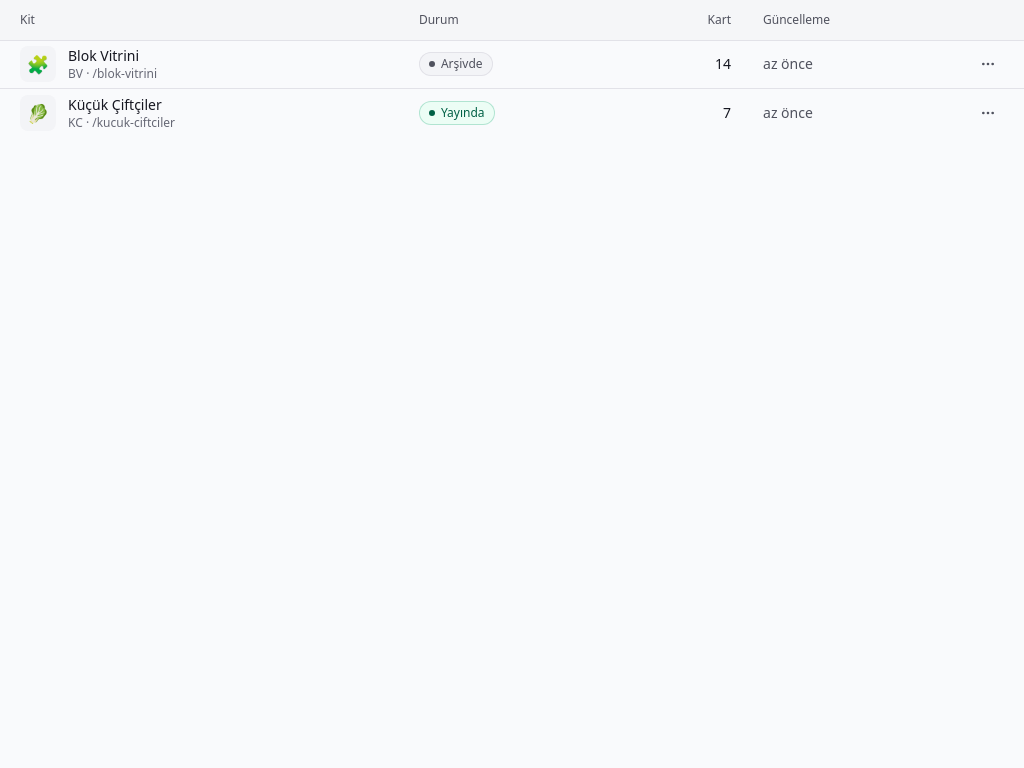
Test: KitsTable › brings an archived kit back
The width and height of the screenshot is (1024, 768).
Click the button named "Blok Vitrini için işlemler": [988, 64] box [972, 48, 1004, 80]
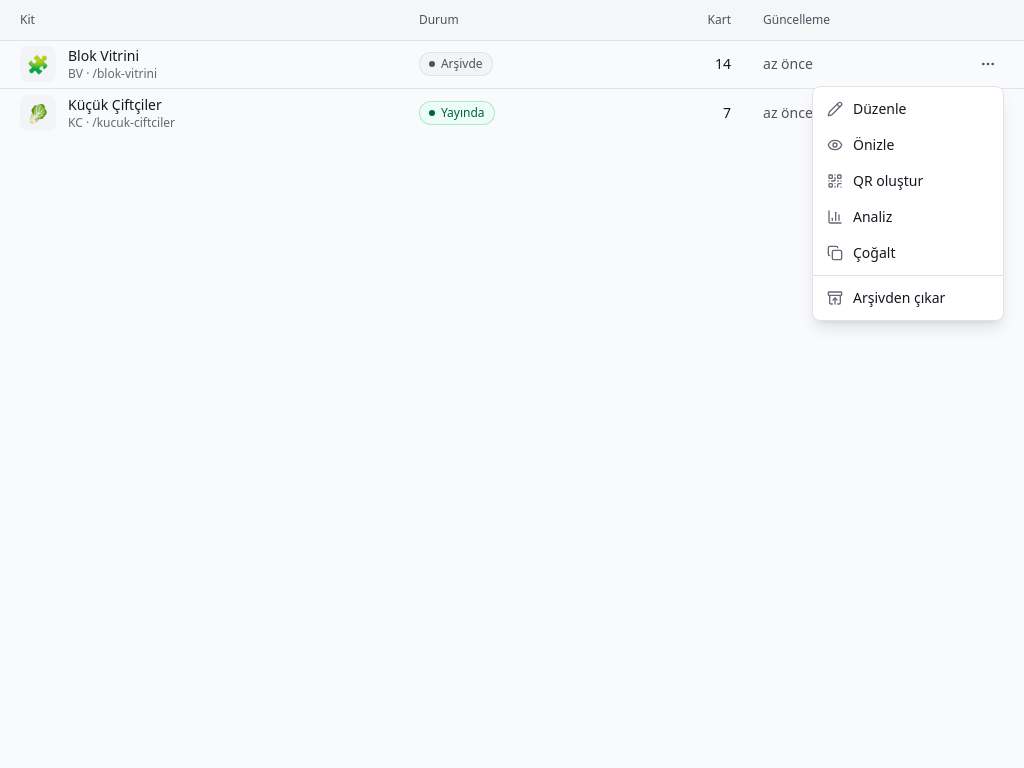
Click the menu item "Arşivden çıkar": [886, 298] box [827, 288, 945, 307]
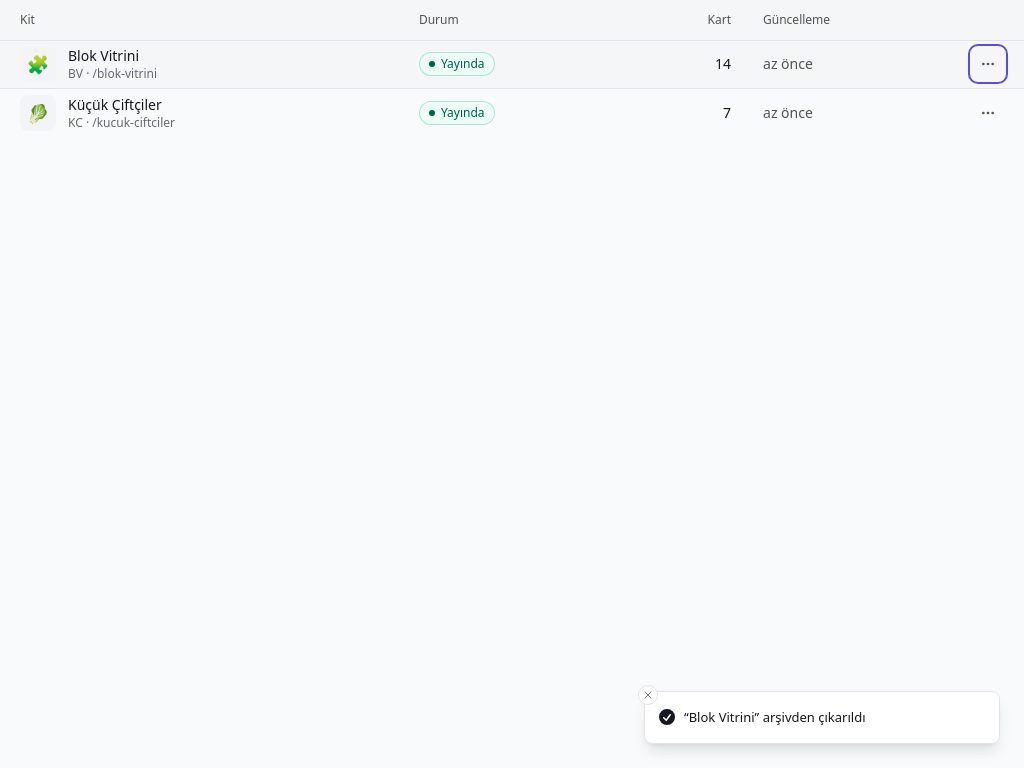
expect the text "“Blok Vitrini” arşivden çıkarıldı" is shown: met, box [684, 708, 866, 727]
